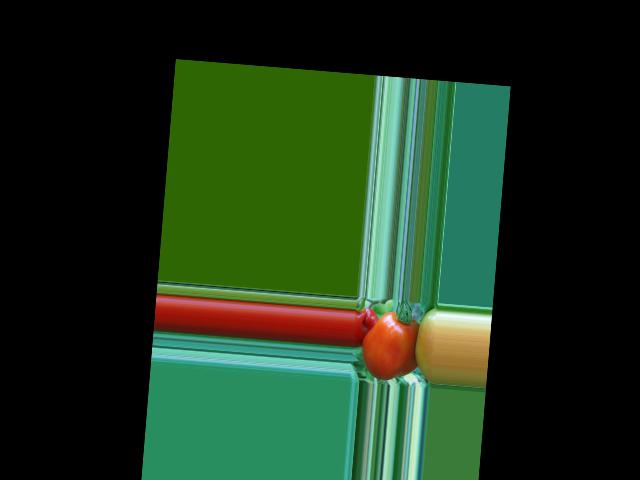tomato: (359, 309, 419, 382)
